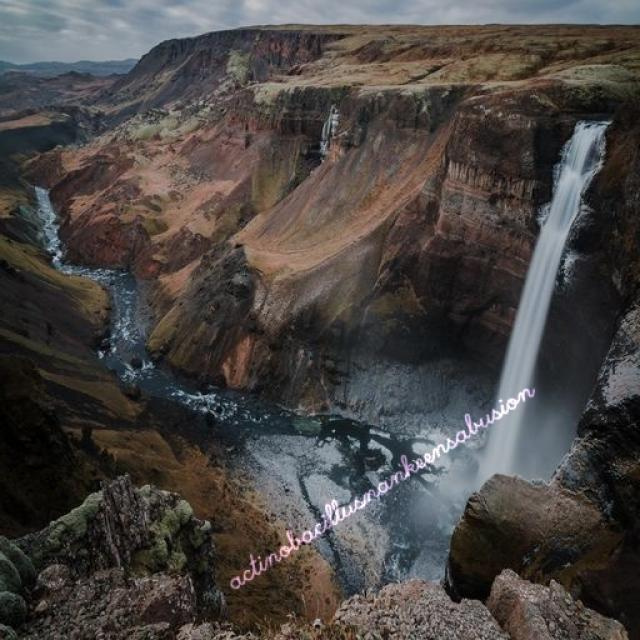watermark: (226, 369, 536, 594)
